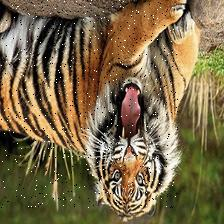tiger: (1, 0, 178, 208)
